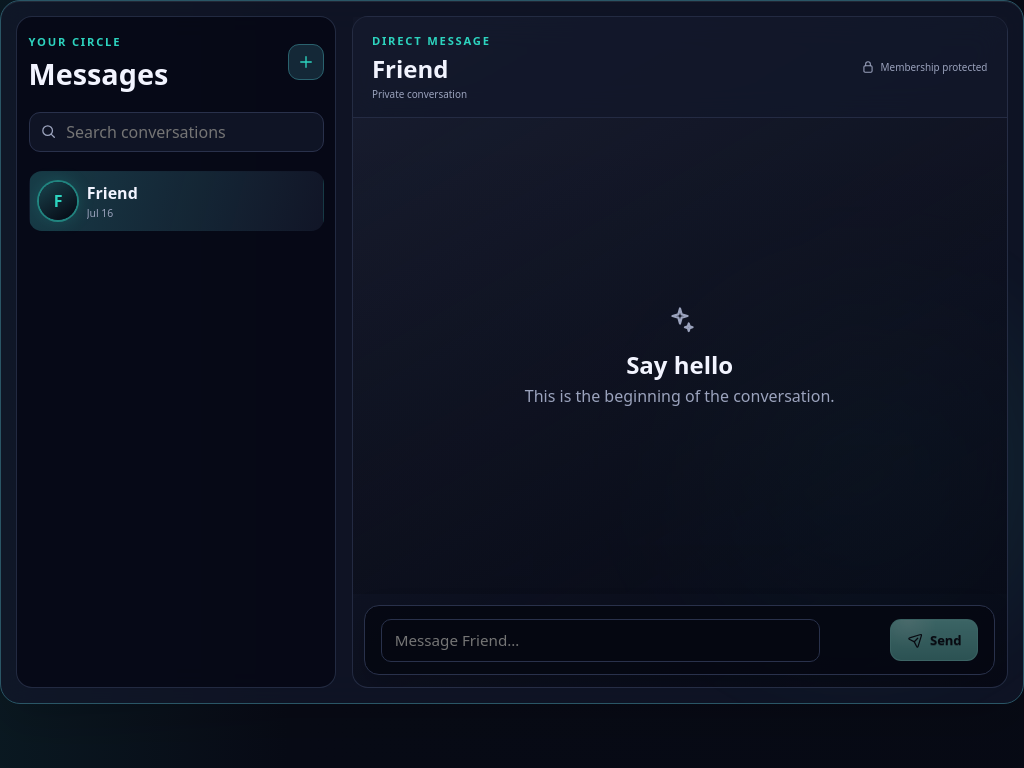
it: MessagesScreen › renders the group composer as a named input and dedicated create action
What coordinates should you click on to do the following:
click the button named "Create a group conversation"
I would click on:
 (306, 62)
Its box is [288, 44, 324, 80].
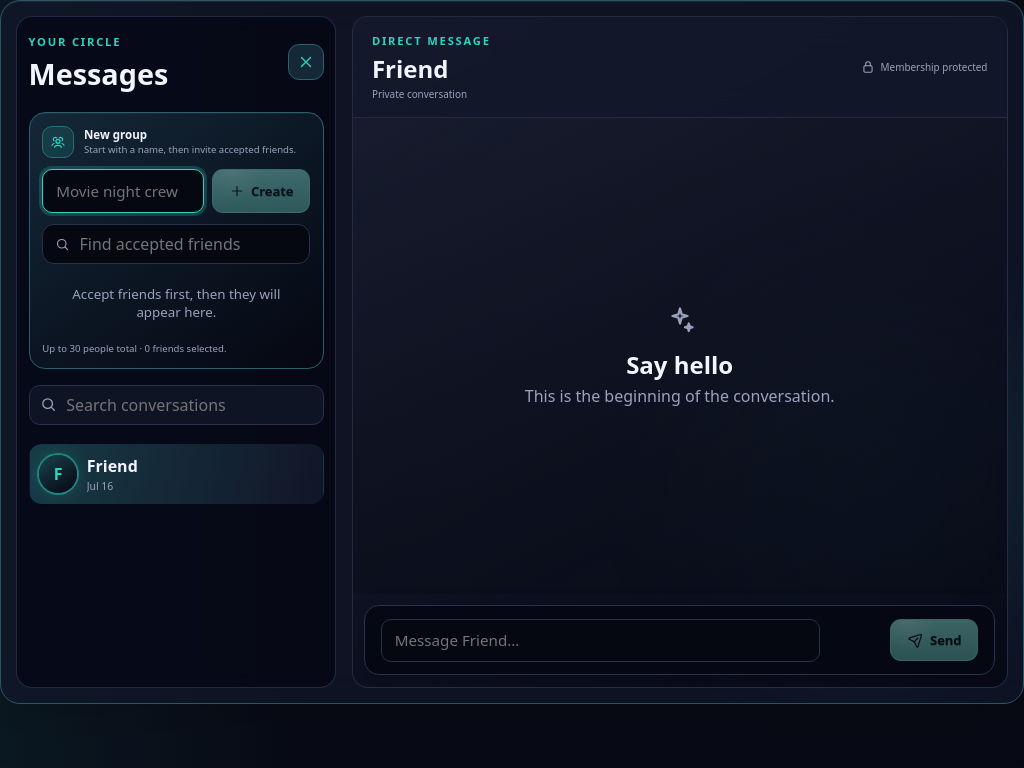
Now the field labelled "New group" is shown, box [42, 169, 204, 213]
Now the button "Create" is shown, box [212, 169, 310, 213]
Now the text "Up to 30 people total · 0 friends selected." is shown, box [42, 342, 226, 355]
